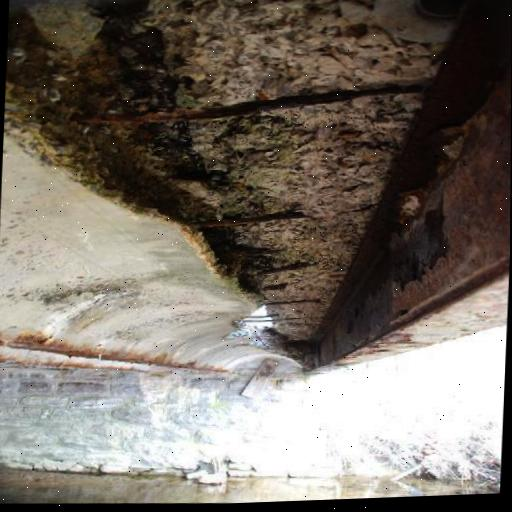exposed_rebar: (77, 86, 424, 124), (199, 209, 307, 229), (259, 261, 315, 272), (266, 299, 320, 305), (240, 318, 304, 322), (263, 283, 288, 290), (243, 313, 278, 318)
